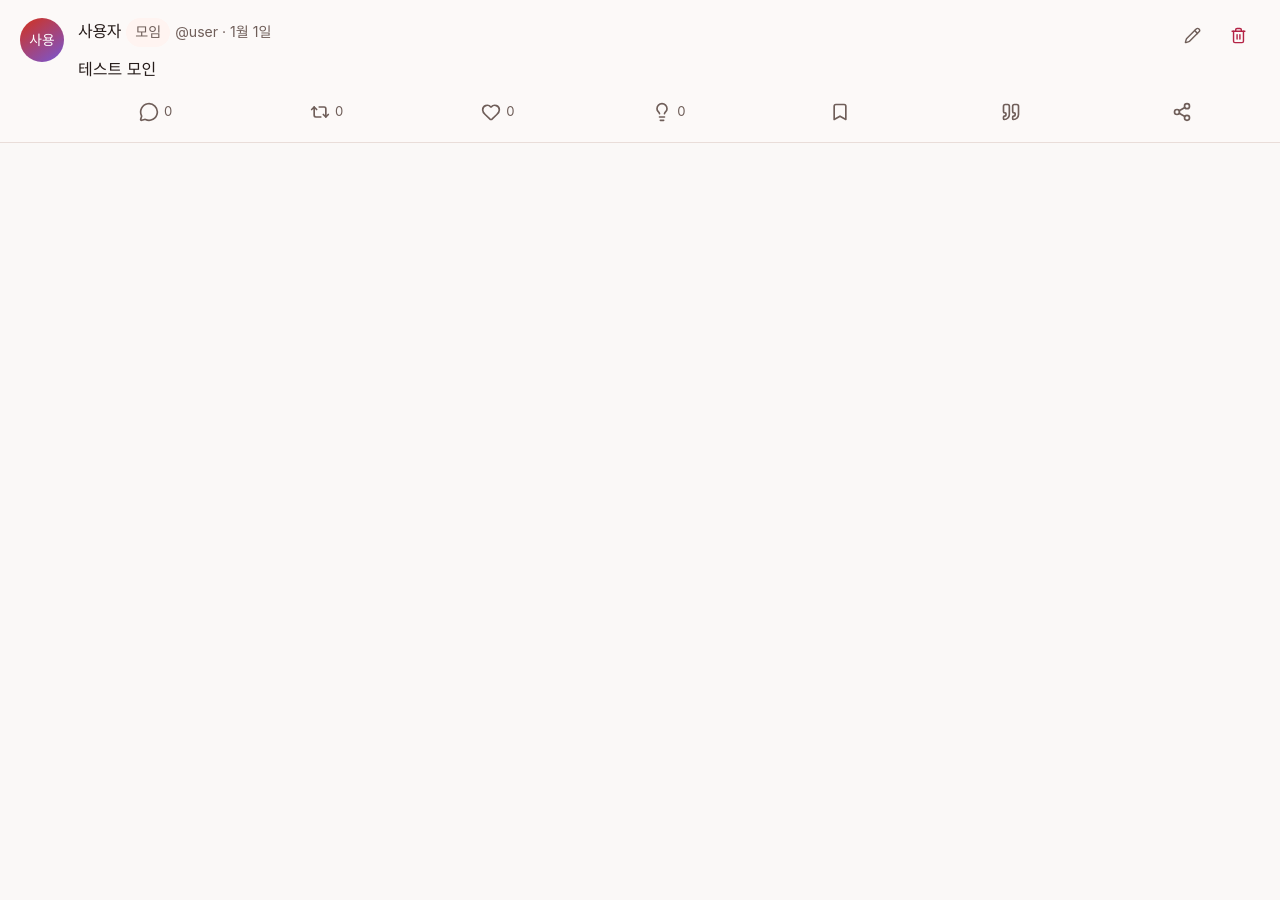
Test: MoinCard optimistic mutation › 모임 Moin의 범위를 표시하고 Remoin도 모임 안에서 처리됨을 안내한다
Check: the text "모임" is shown, box top-left (126, 18), bottom-right (170, 46)
Click the button named "리모인" at (327, 112), box top-left (241, 93), bottom-right (412, 131)
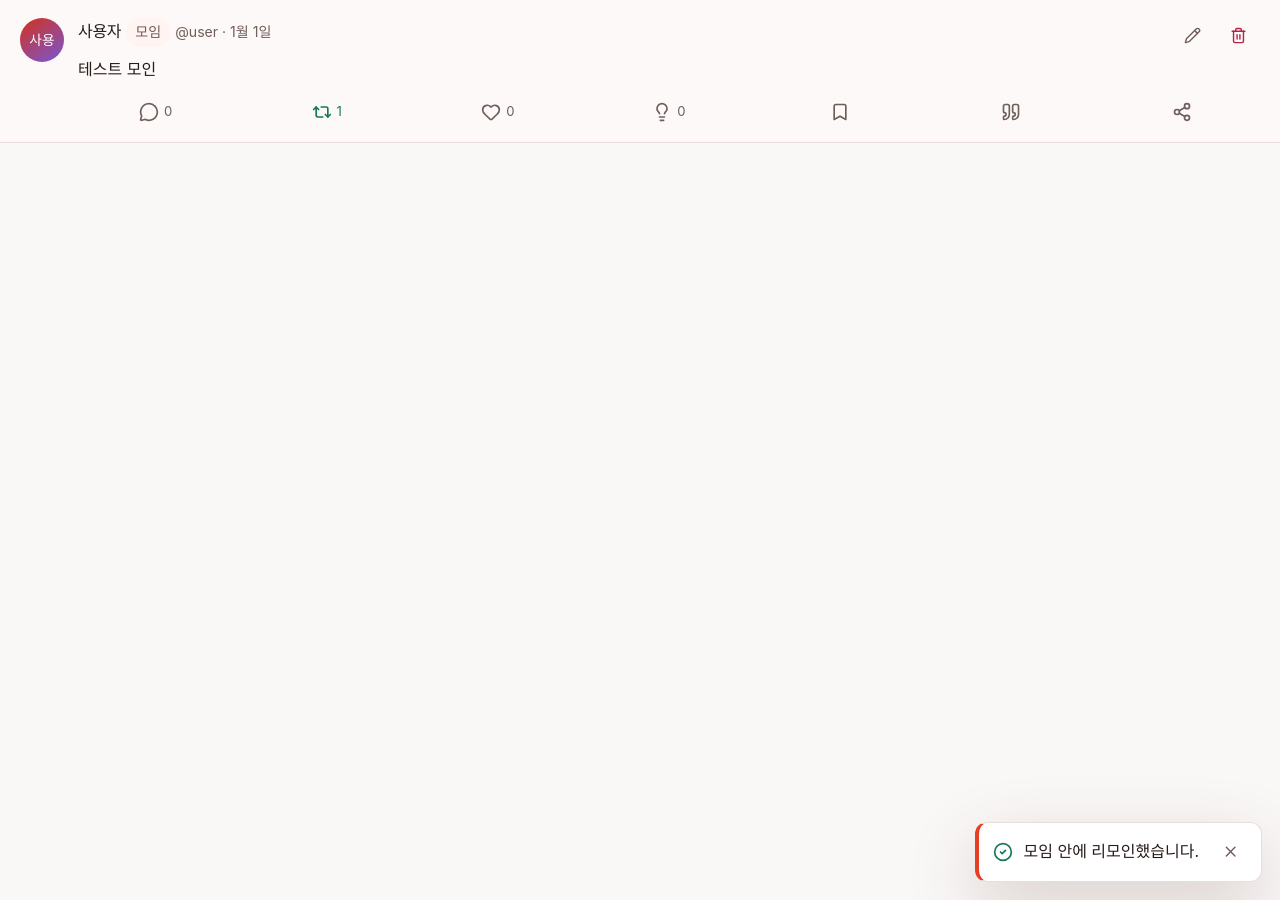
Check: the text "모임 안에 리모인했습니다." is shown, box top-left (1024, 839), bottom-right (1199, 865)
